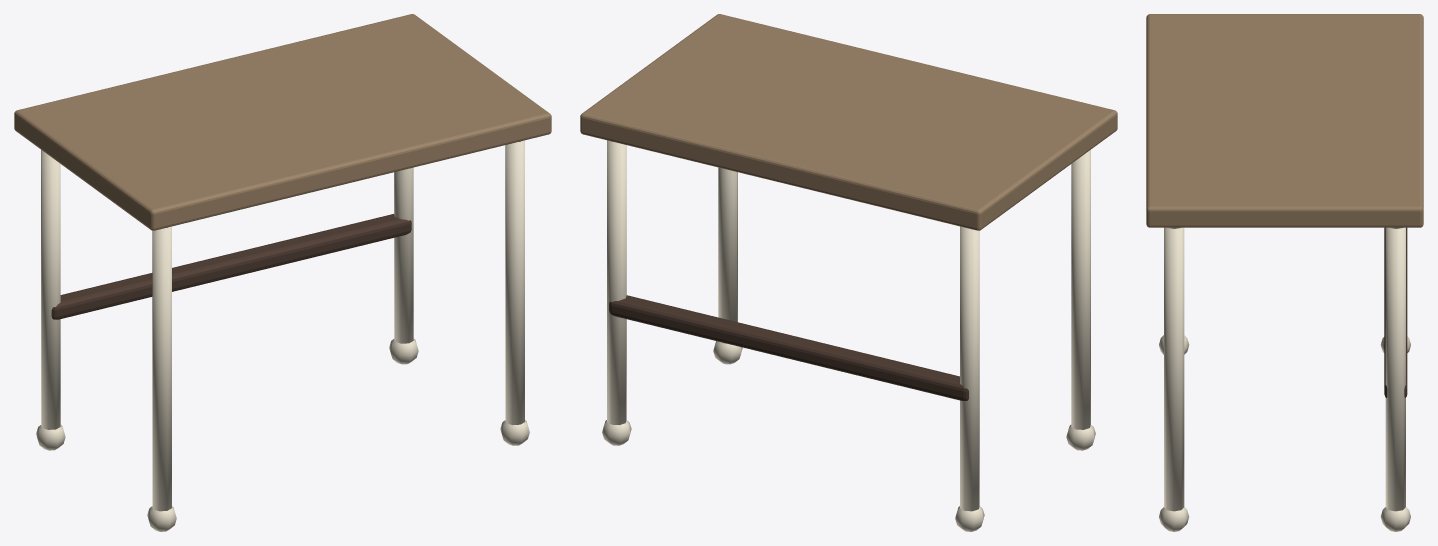
Rendered from student_desk_bone_leg.glb.
3 renders of one model, left to right at view 1: azimuth 30°, elevation 25°; view 2: azimuth 150°, elevation 25°; view 3: azimuth 270°, elevation 25°, orthographic.
Parts seen in each view (by area): view 1: GD_student_desk_bone_leg__m0, GD_student_desk_bone_leg__m1, GD_student_desk_bone_leg__m2; view 2: GD_student_desk_bone_leg__m0, GD_student_desk_bone_leg__m1, GD_student_desk_bone_leg__m2; view 3: GD_student_desk_bone_leg__m0, GD_student_desk_bone_leg__m1, GD_student_desk_bone_leg__m2.
Part boxes in pixels (box(x1,y1,x2,y2)): GD_student_desk_bone_leg__m0: box(14, 14, 551, 230); GD_student_desk_bone_leg__m1: box(36, 140, 529, 531); GD_student_desk_bone_leg__m2: box(51, 214, 411, 319); GD_student_desk_bone_leg__m0: box(580, 14, 1117, 230); GD_student_desk_bone_leg__m1: box(602, 140, 1095, 531); GD_student_desk_bone_leg__m2: box(609, 295, 968, 400); GD_student_desk_bone_leg__m0: box(1146, 14, 1423, 227); GD_student_desk_bone_leg__m1: box(1159, 227, 1410, 531); GD_student_desk_bone_leg__m2: box(1384, 227, 1407, 397).
Bounding box in the file's own units: 1 × 0.798 × 0.6.
